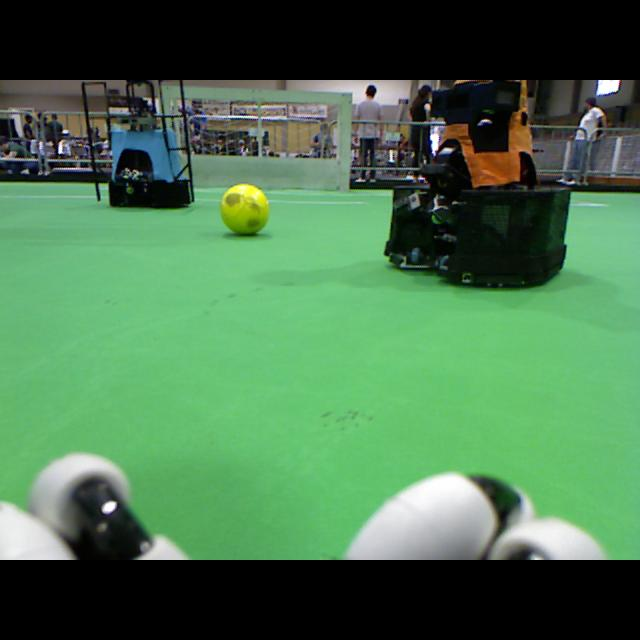ball: (221, 184, 270, 233)
goal: (339, 94, 350, 194)
robot: (385, 81, 570, 290)
